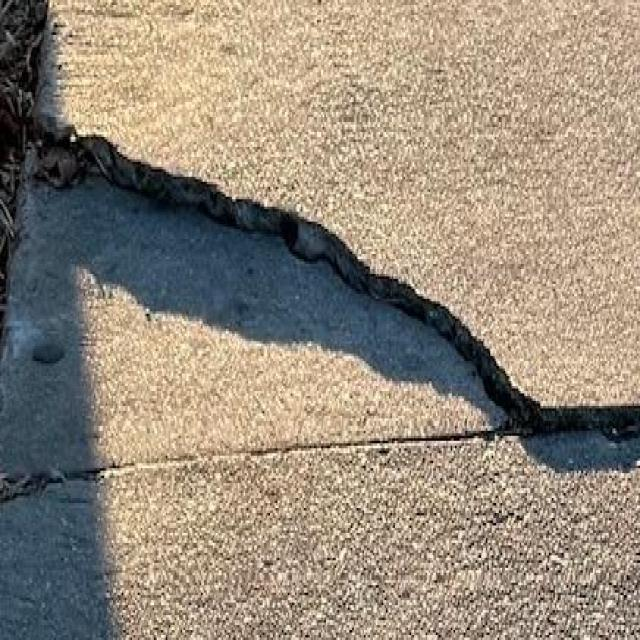bump: (14, 62, 604, 450)
